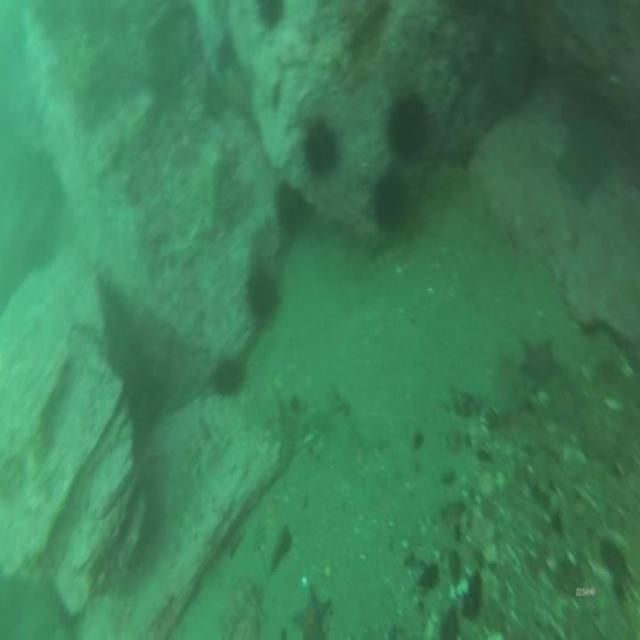echinus: (388, 98, 428, 158), (373, 174, 408, 232), (278, 185, 308, 235), (247, 274, 279, 318), (306, 126, 336, 170), (217, 362, 244, 393)
starfish: (521, 336, 563, 386), (293, 589, 330, 640)
